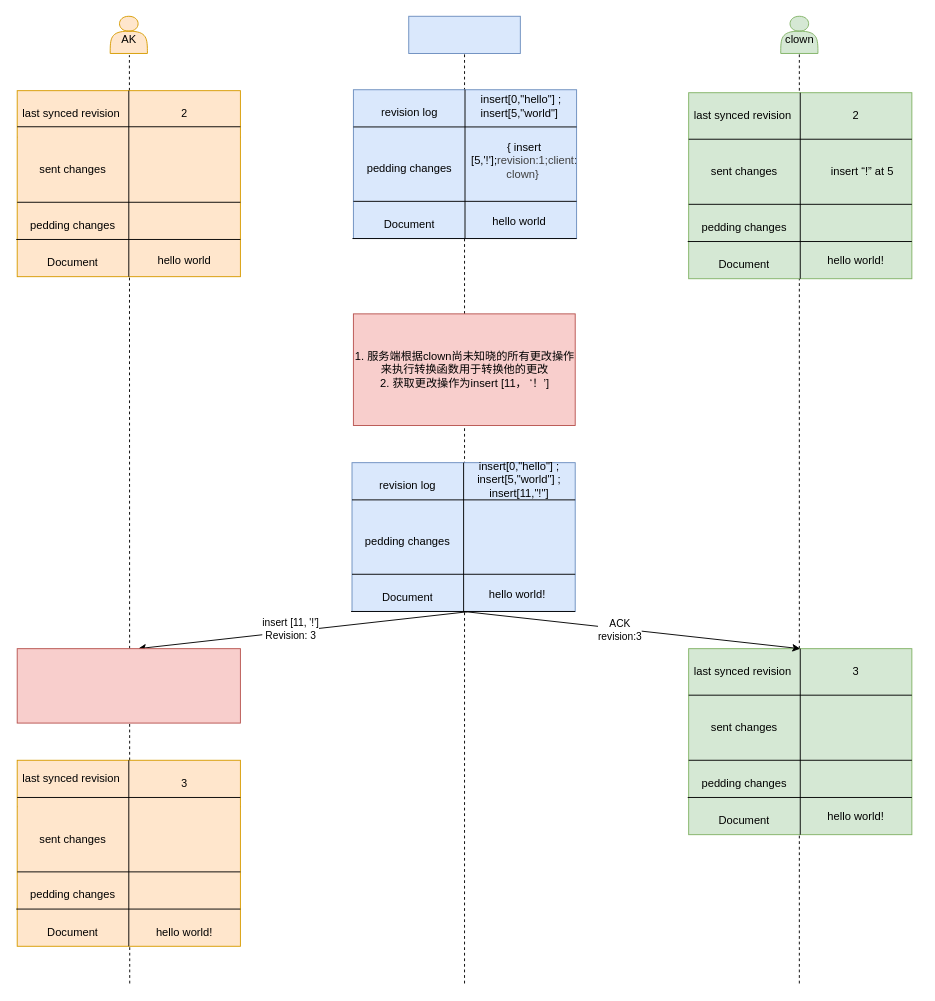
Some shapes in this 935 by 1001 pixel diagram are drawn without their labels. The shapes that lost their labels are listed below. From the top down, each one's centre as x and y in pixels, then its label:
At point 464,34: "serve服务端".
At point 128,685: "1. 本地没有任何需要更新的操作 2. 应用更改insert [11， ‘！’]".
